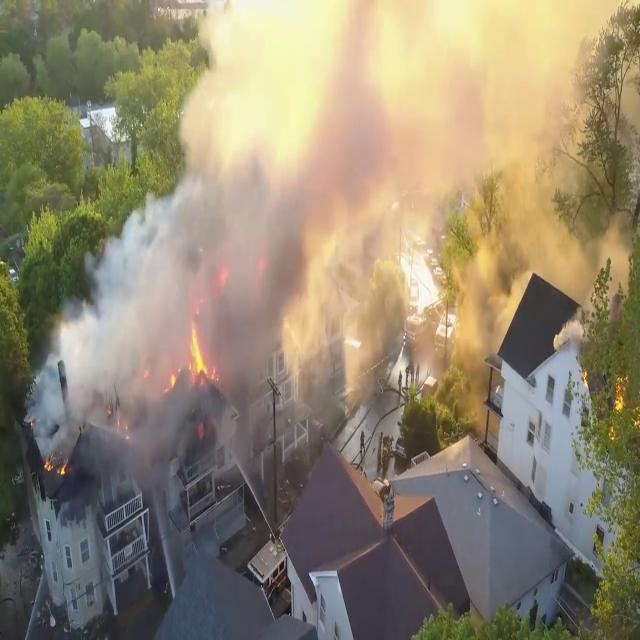Fire: (186, 316, 214, 391)
Smoke: (45, 0, 609, 382)
